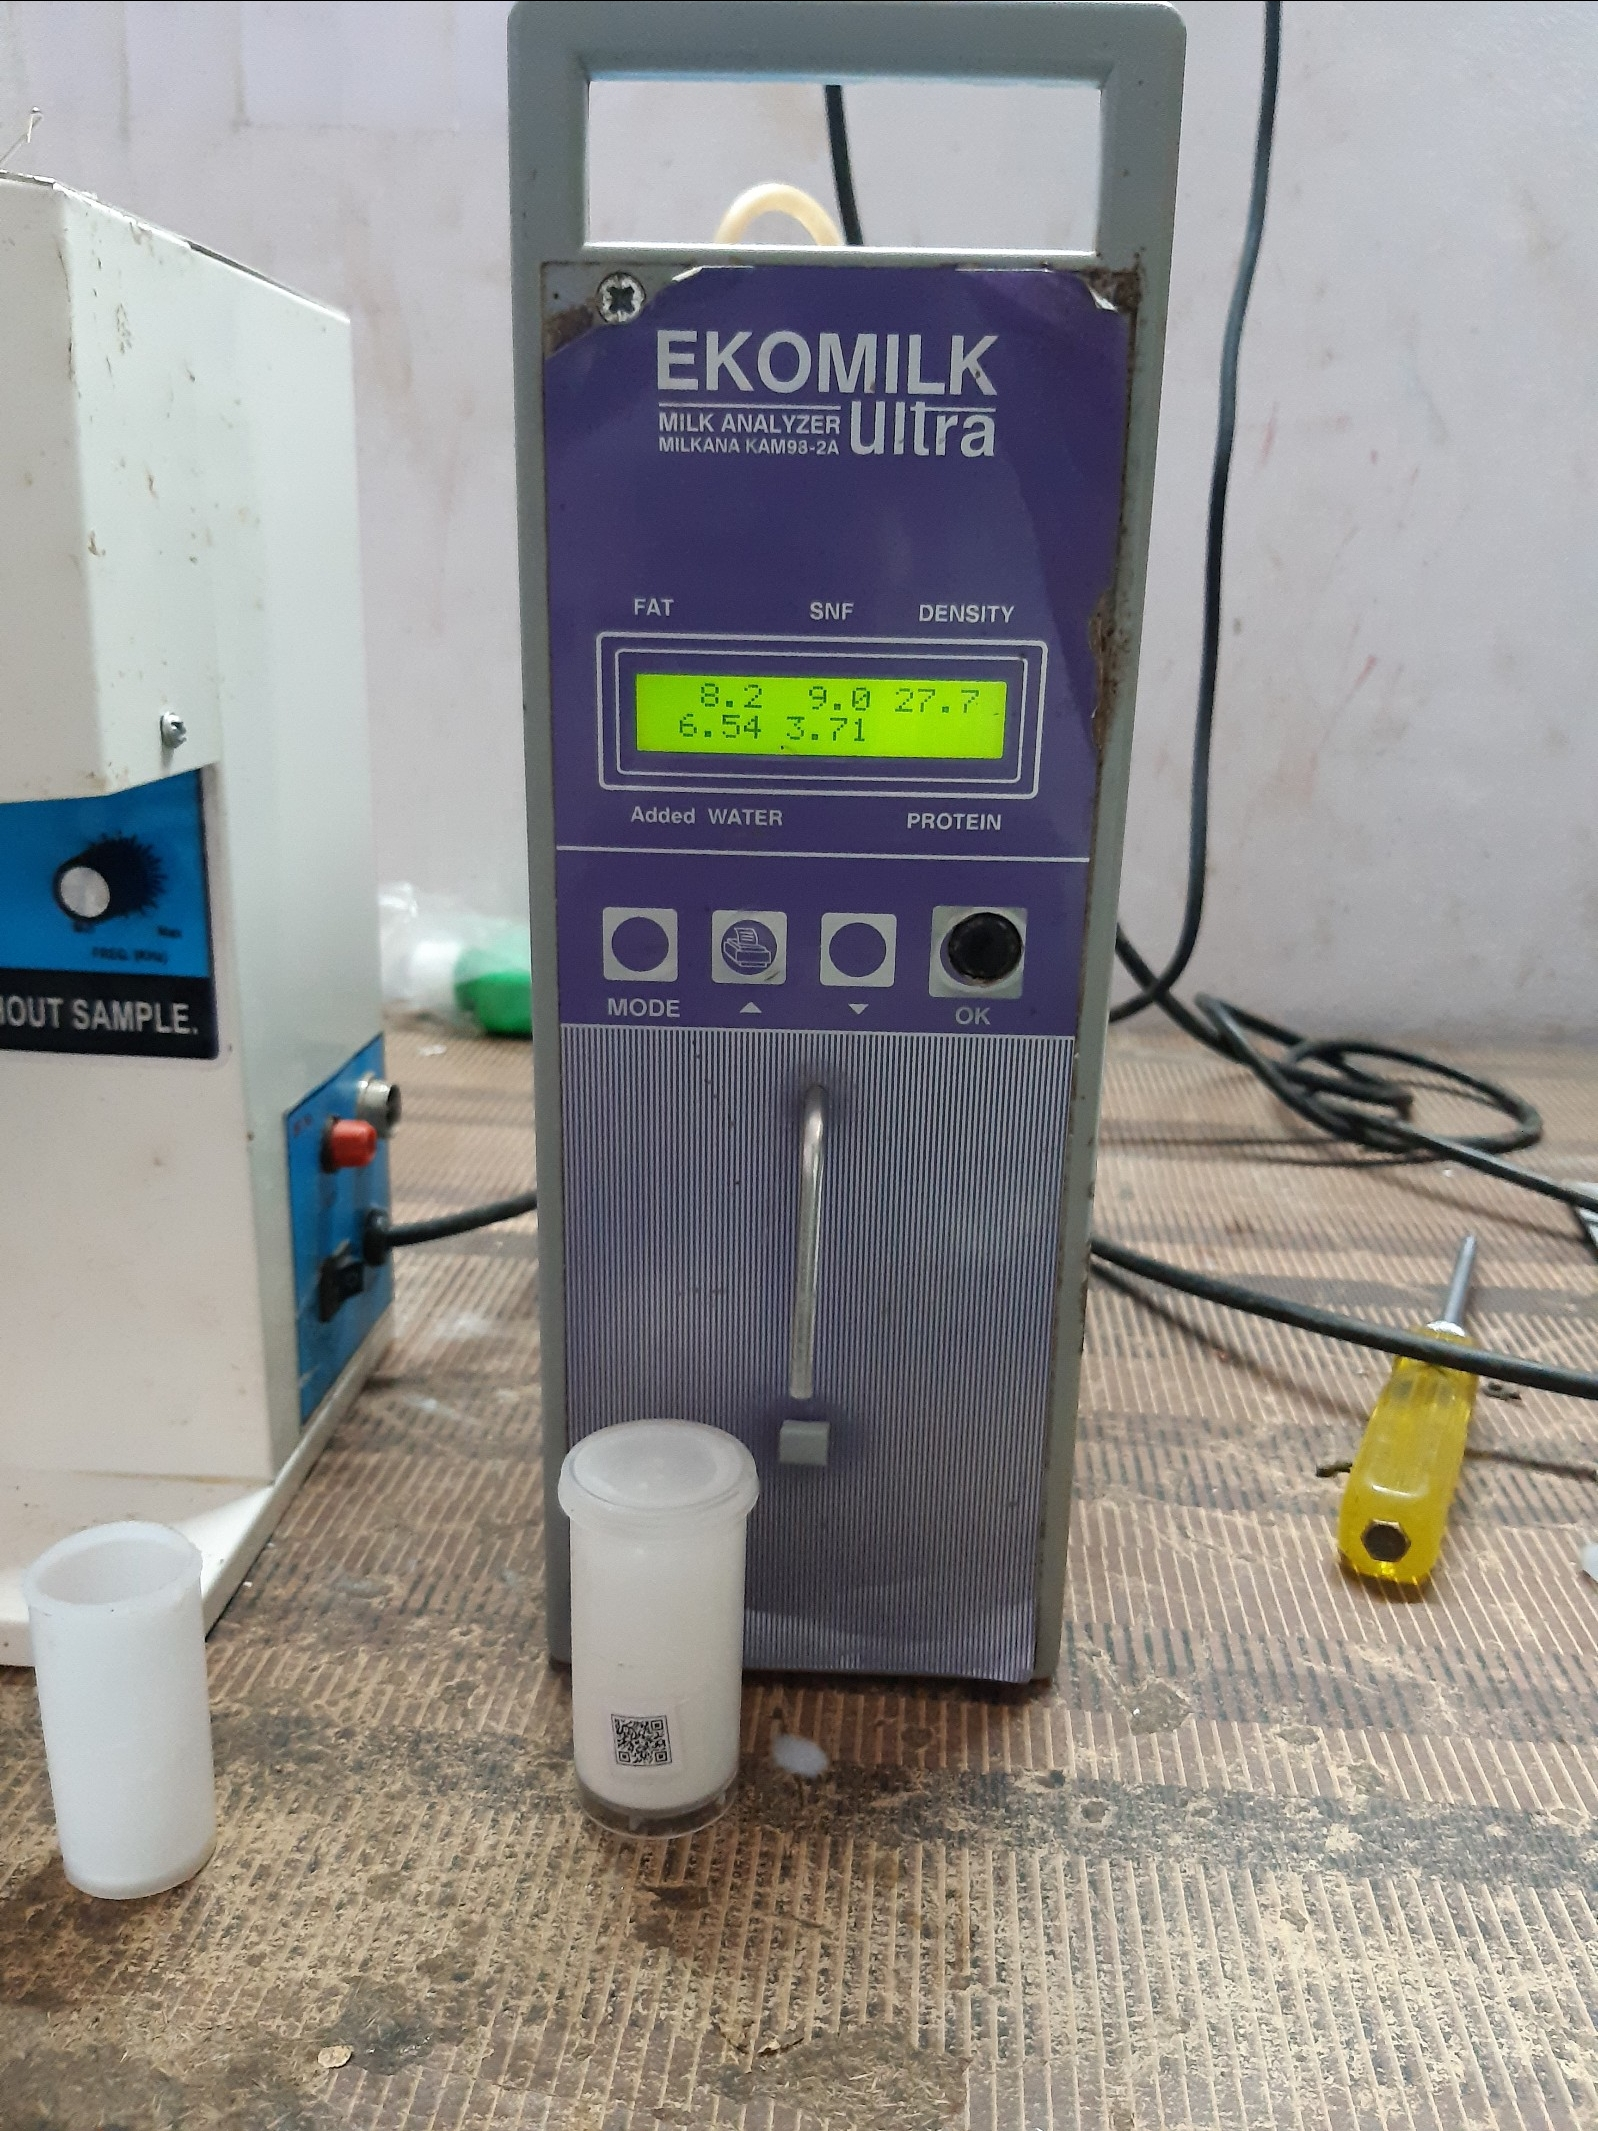lcd: (619, 664, 1019, 780)
qr: (589, 1696, 680, 1790)
